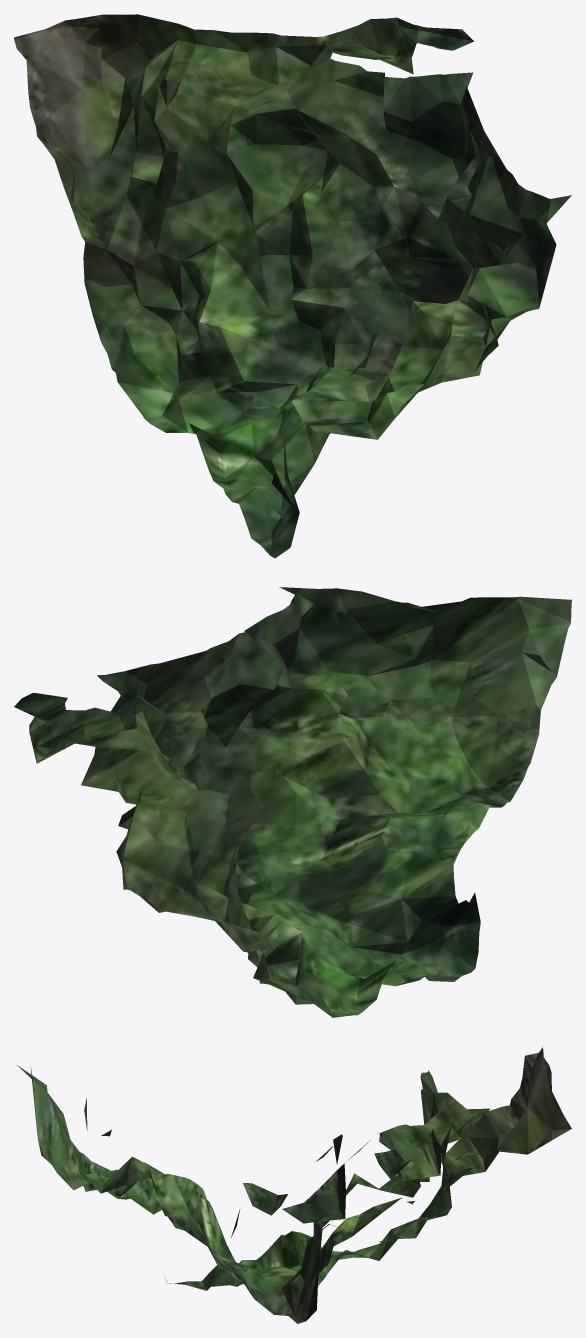
The picture shows the model from 3 angles, top to bottom: view 1: azimuth 30°, elevation 25°; view 2: azimuth 150°, elevation 25°; view 3: azimuth 270°, elevation 25°; orthographic projection. The views are drawn at different scales.
Bounding box in the file's own units: 10.3 × 9.18 × 19.52.
2 materials, 2 textured.
